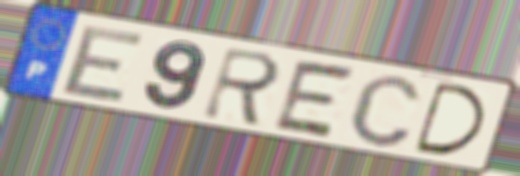9: (140, 38, 209, 112)
C: (346, 71, 425, 150)
D: (411, 79, 488, 158)
E: (268, 57, 361, 141), (57, 23, 150, 104)
R: (198, 44, 286, 130)
